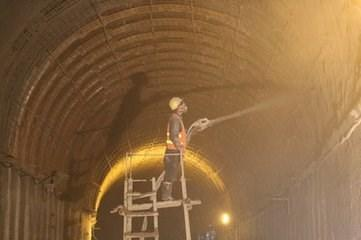helmet: (170, 97, 184, 113)
